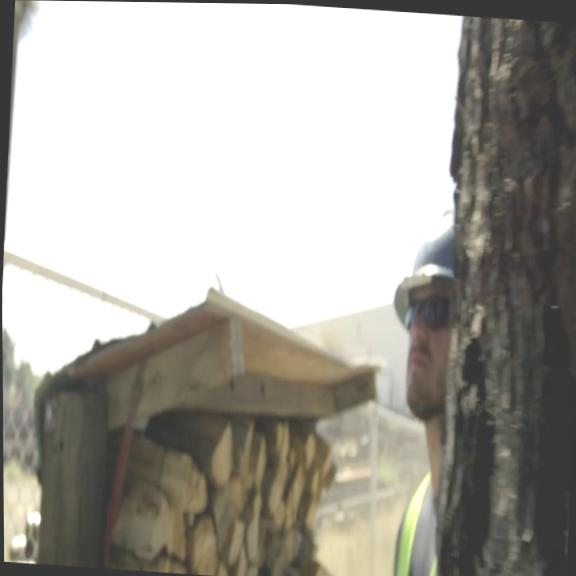safety_vest: (392, 472, 440, 576)
